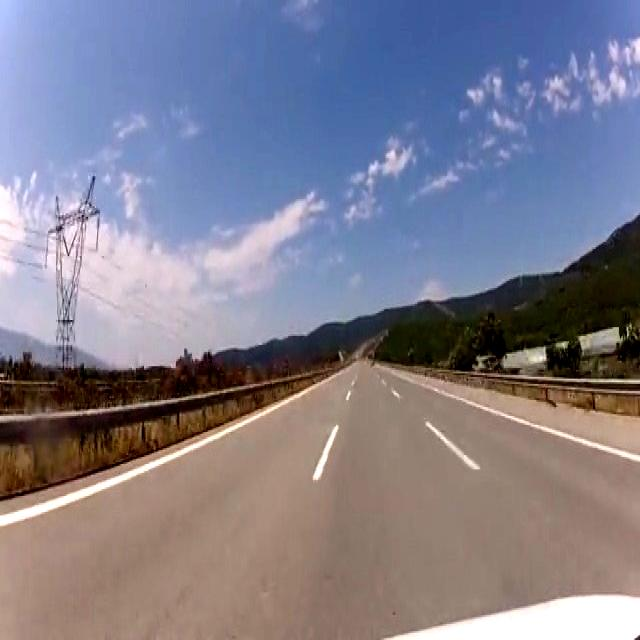lane: (0, 386, 318, 527), (404, 376, 640, 461), (425, 422, 479, 470), (312, 424, 338, 481)
road: (0, 361, 639, 636)
